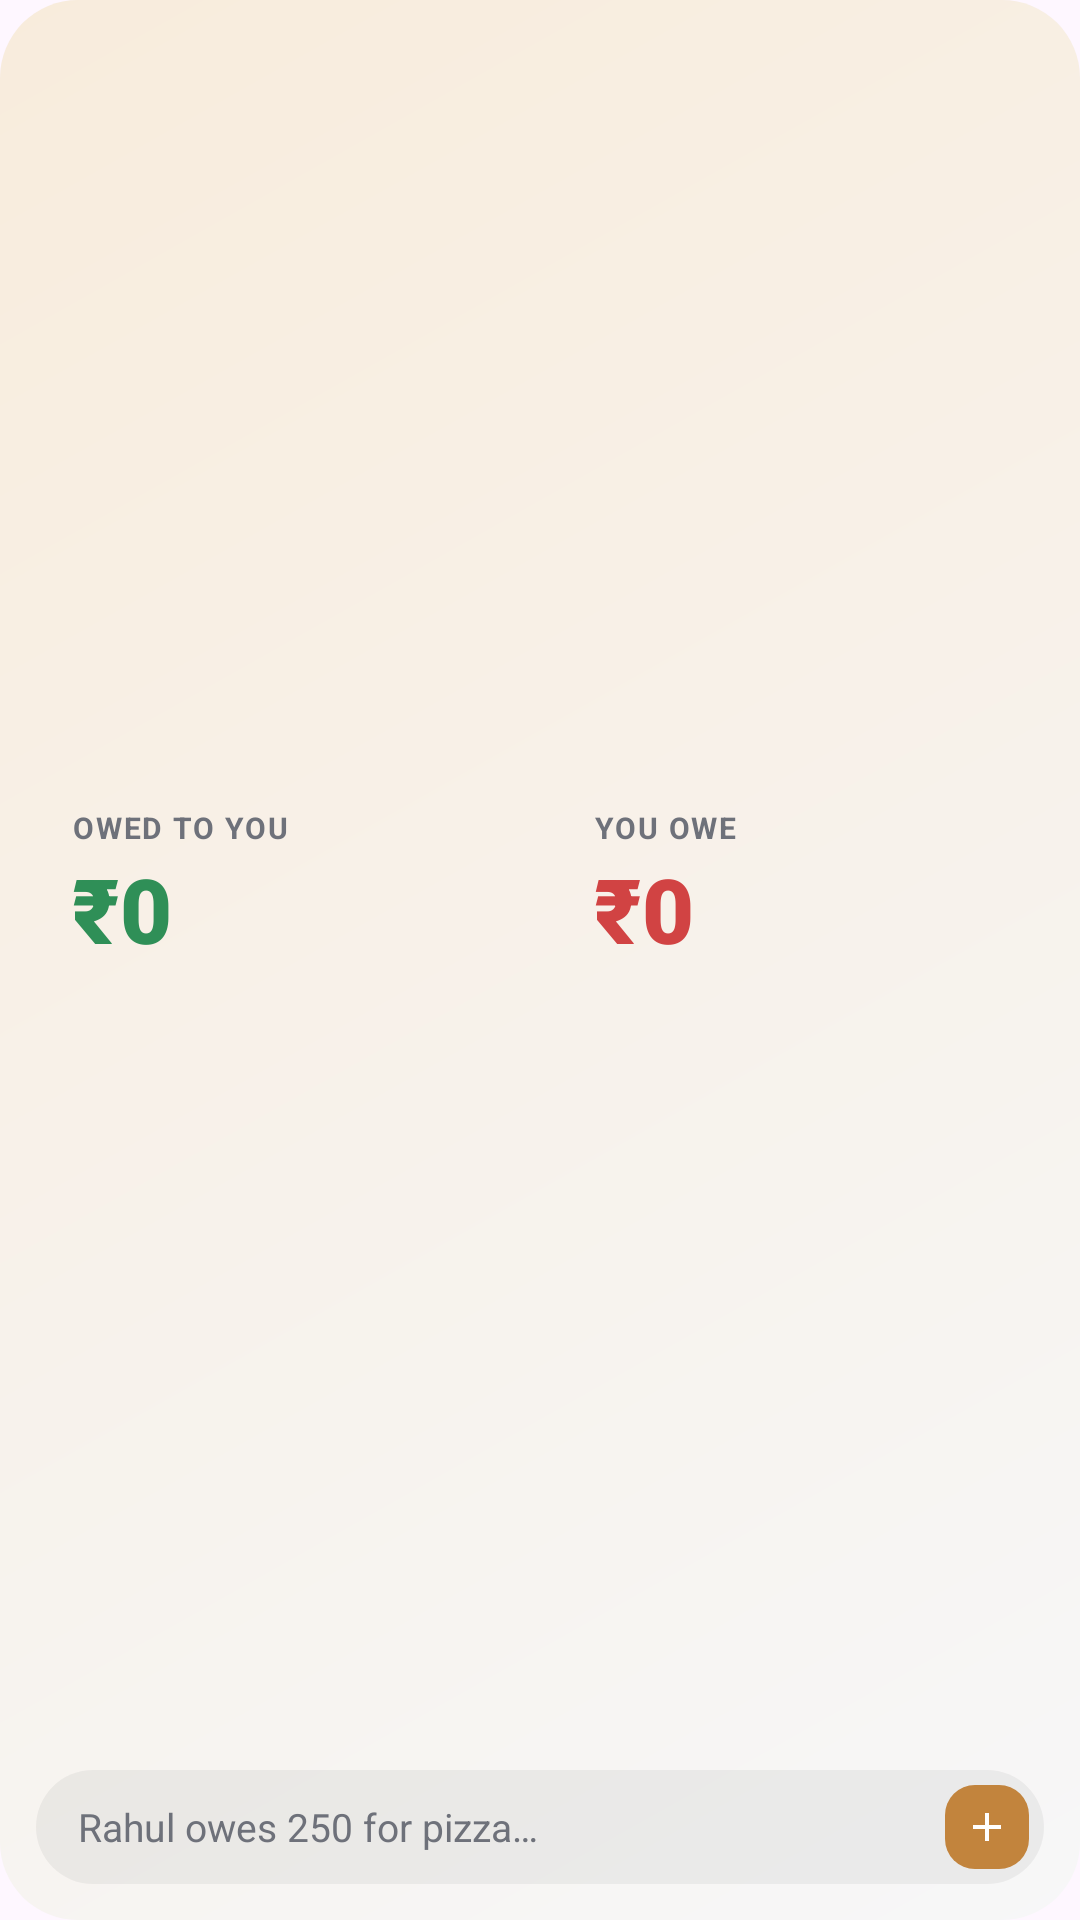

Screen size 1080px×1920px. Icon name, then its box in pixels as (x1, y1, x2, y2):
Add an entry: (945, 1785, 1029, 1869)
